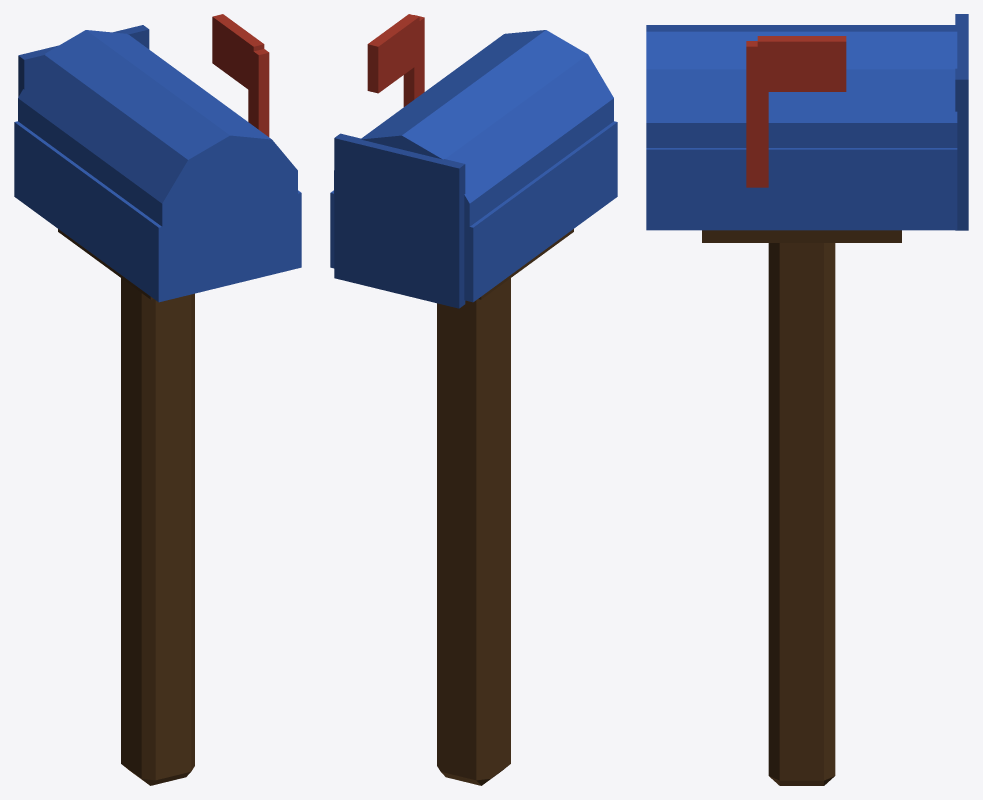
File: Mailbox.glb
The picture shows the model from 3 angles, left to right: view 1: azimuth 30°, elevation 25°; view 2: azimuth 150°, elevation 25°; view 3: azimuth 270°, elevation 25°; orthographic projection. The views are drawn at different scales.
Parts seen in each view (by area): view 1: Body; view 2: Body; view 3: Body.
Part boxes in pixels (x1,y1,x2,y2): Body: (14, 14, 301, 785); Body: (330, 14, 617, 785); Body: (646, 14, 968, 785).
Size of what is drawn, in the model's own units: 0.88 by 3.88 by 1.45.
